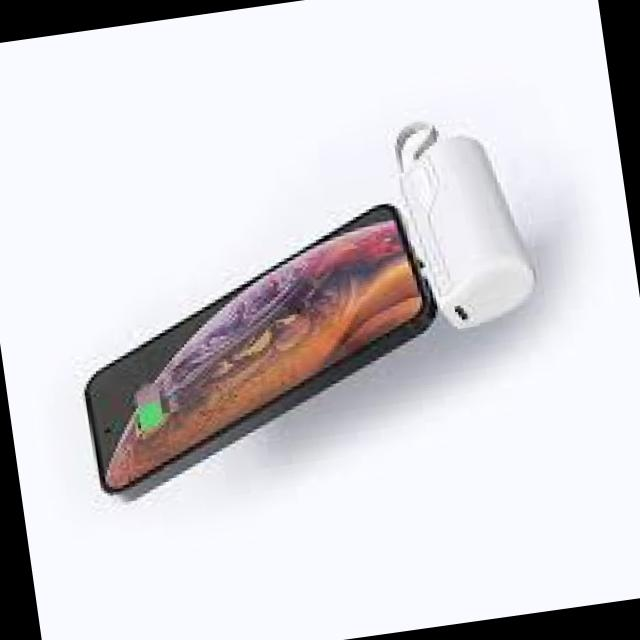portable-charger: (393, 118, 546, 340)
